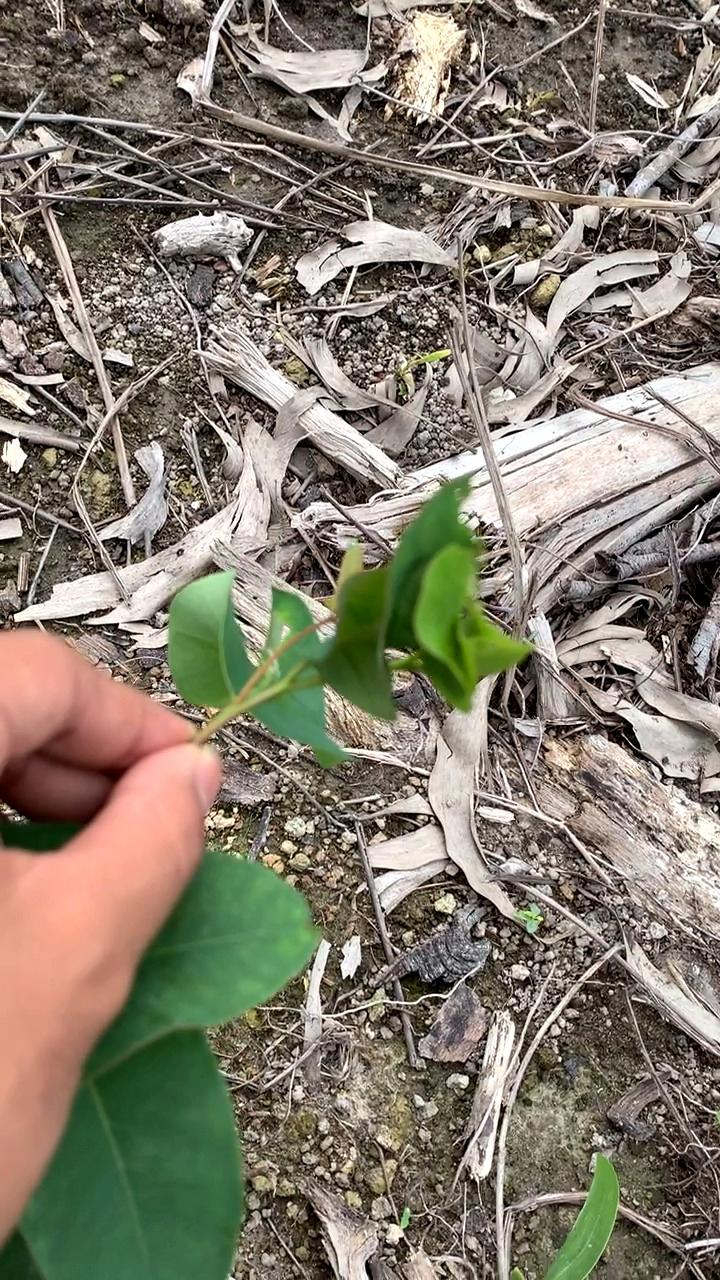Leaf Roller - Leaf: (315, 488, 531, 717)
